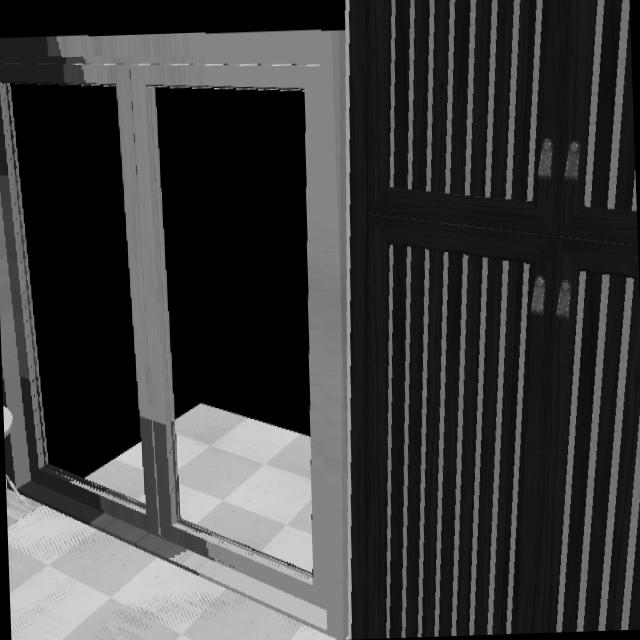wardrobe: (347, 0, 640, 639)
